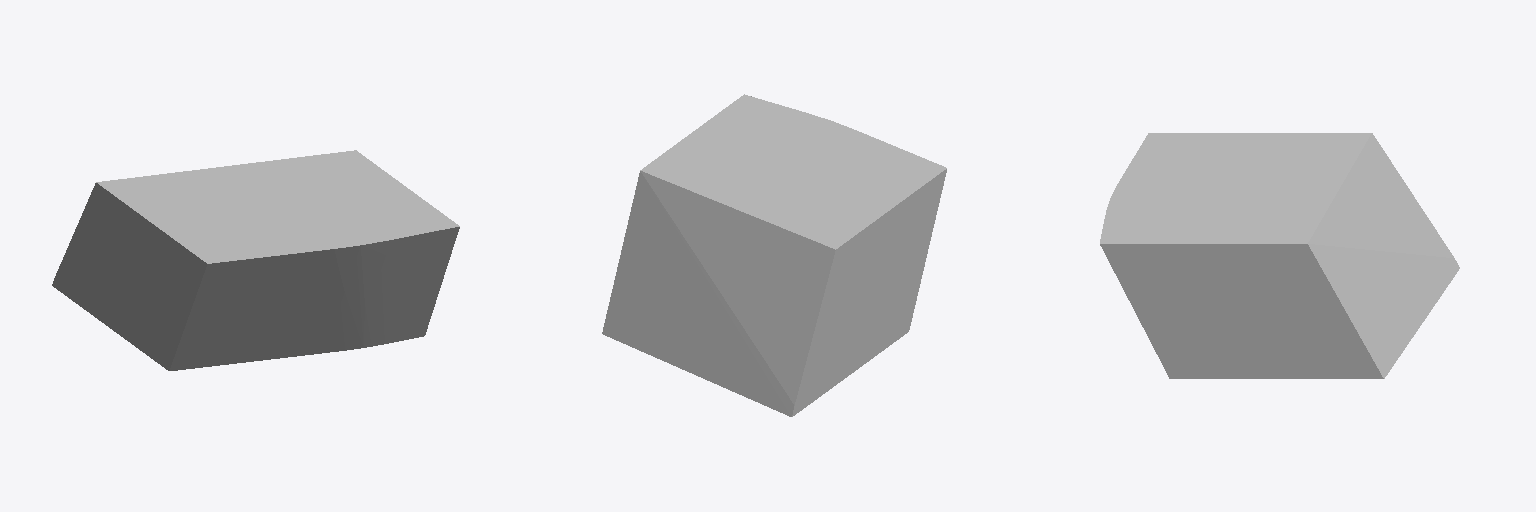
The model's file is Bowl_21_collision_26.obj.
3 views of the same model, side by side, from view 1: azimuth 30°, elevation 25°; view 2: azimuth 150°, elevation 25°; view 3: azimuth 270°, elevation 25° (orthographic).
Size of the model in its own units: 0.0201 by 0.0114 by 0.0275.